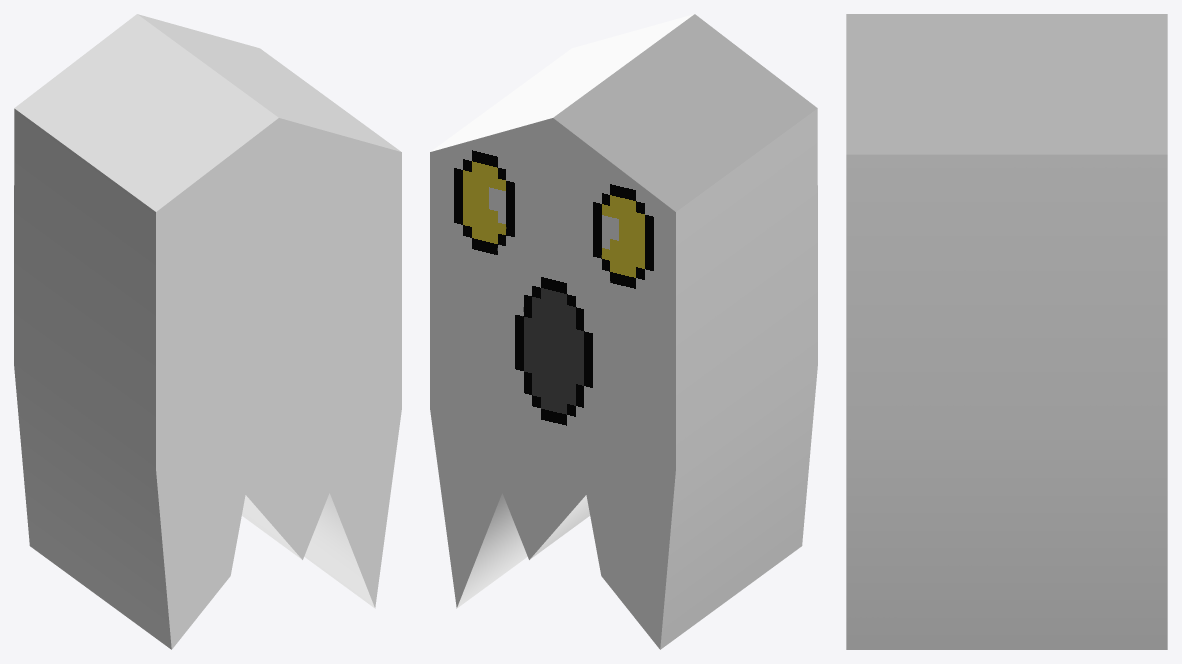
File: ghost.fbx
3 views of the same model, side by side, from view 1: azimuth 30°, elevation 25°; view 2: azimuth 150°, elevation 25°; view 3: azimuth 270°, elevation 25° (orthographic). The views are drawn at different scales.
Parts seen in each view (by area): view 1: ghost:Mesh; view 2: ghost:Mesh; view 3: ghost:Mesh.
Boxes of the visible parts, bbox=[...] form: ghost:Mesh: bbox=[14, 14, 401, 649]; ghost:Mesh: bbox=[430, 14, 817, 649]; ghost:Mesh: bbox=[846, 14, 1167, 649].
Size of the model in its own units: 86.06 by 172 by 86.
Materials: 1 (1 with a texture image).
